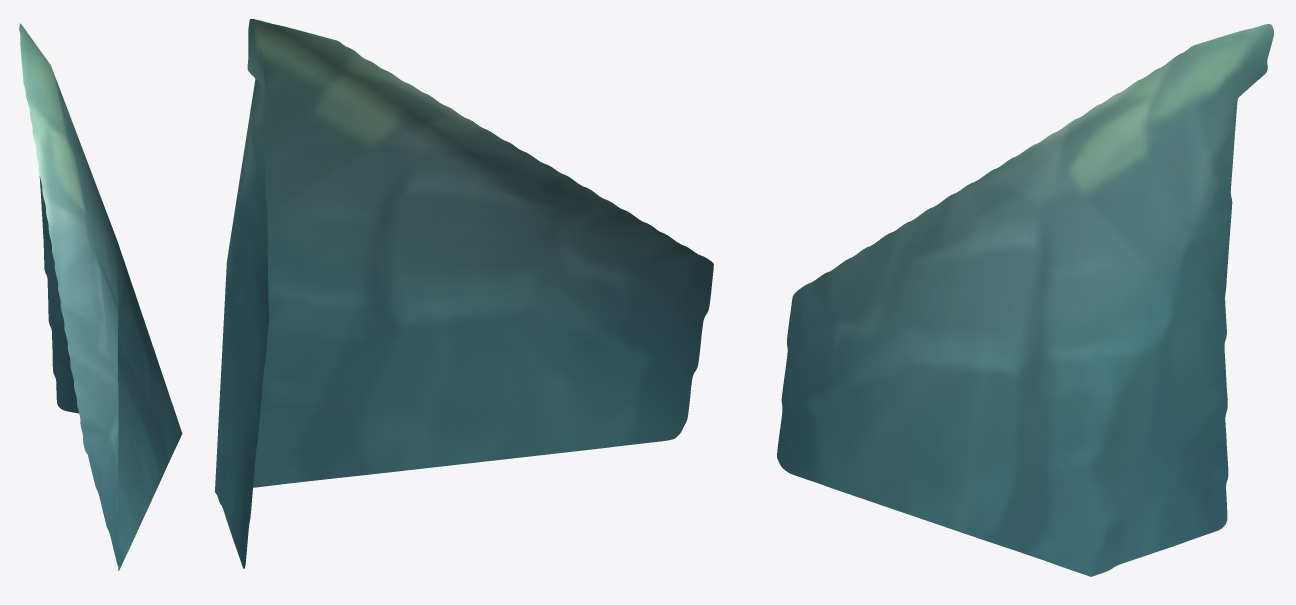
The model's file is obj_shana.FBX.
3 views of the same model, side by side, from view 1: azimuth 30°, elevation 25°; view 2: azimuth 150°, elevation 25°; view 3: azimuth 270°, elevation 25° (orthographic). The views are drawn at different scales.
Visible parts, largest first — view 1: obj_shana; view 2: obj_shana; view 3: obj_shana.
Boxes of the visible parts, x1,y1,x2,y2 form: obj_shana: (19, 23, 182, 570); obj_shana: (215, 19, 713, 568); obj_shana: (777, 23, 1273, 576).
Bounding box in the file's own units: 2848 × 5002 × 4454.
